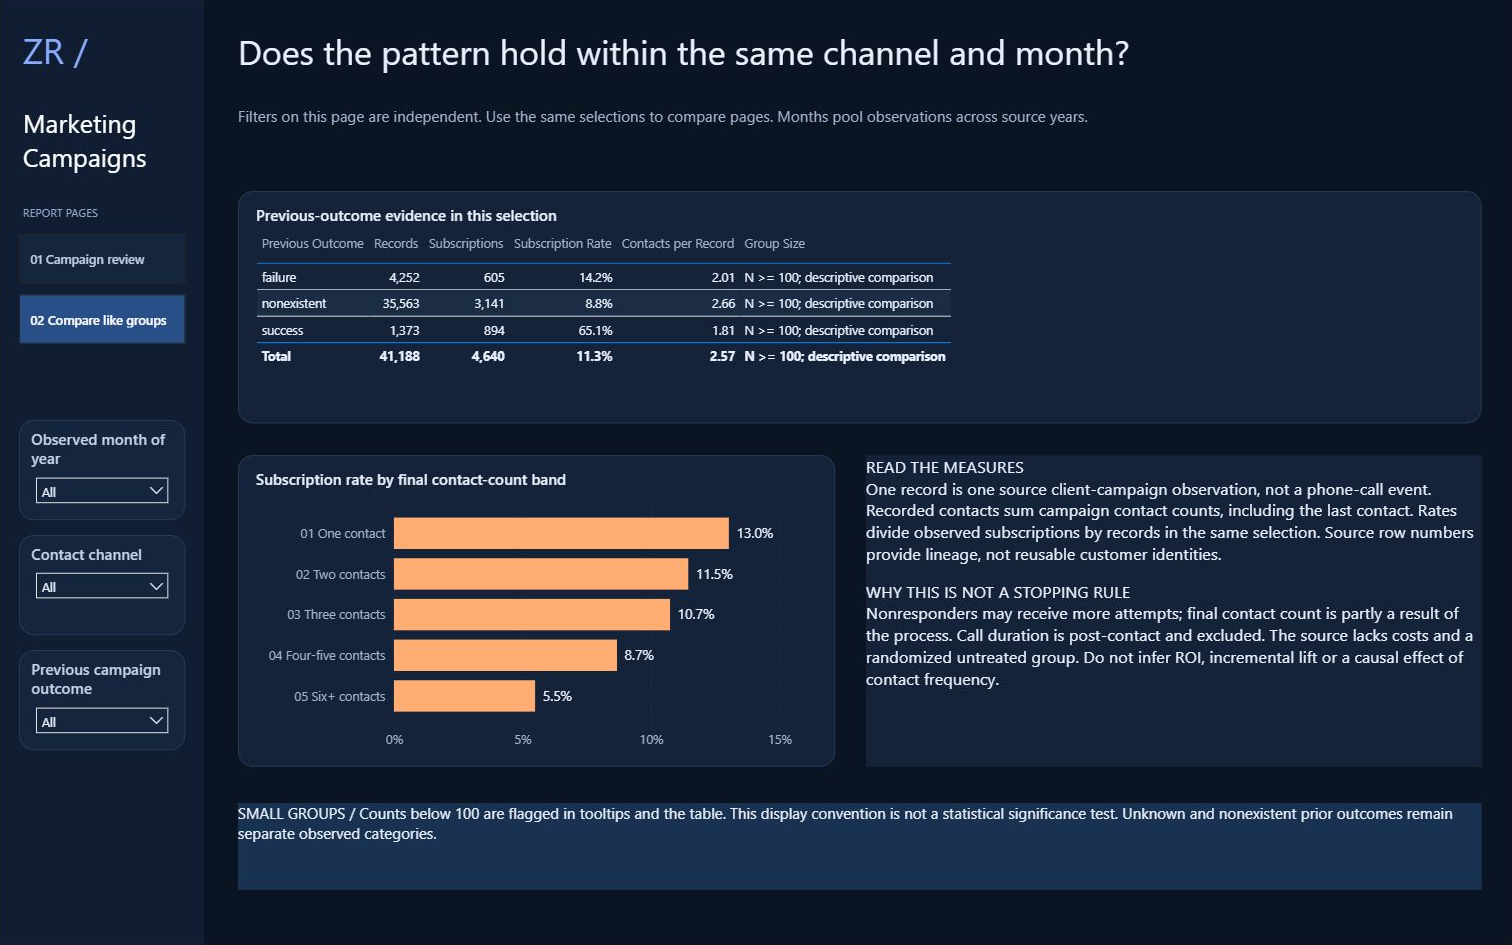

The page's visual inventory and layout, read from the dashboard file:
{"tool":"powerbi","page":{"name":"02  Compare like groups","canvas":[1440,1000],"ordinal":1},"visuals":[{"type":"textbox","box":[24,28,1392,65],"z":0},{"type":"textbox","box":[24,104,1392,38],"z":0},{"type":"slicer","title":"Observed month of year","fields":{"Values":["Months.Month"]},"box":[24,150,448,68],"z":0},{"type":"slicer","title":"Contact channel","fields":{"Values":["Channels.Channel"]},"box":[496,150,448,68],"z":0},{"type":"slicer","title":"Previous campaign outcome","fields":{"Values":["Outcomes.Previous Outcome"]},"box":[968,150,448,68],"z":0},{"type":"clusteredBarChart","title":"Subscription rate by final contact-count band","fields":{"Category":["ContactBands.Contact Band"],"Y":["Campaigns.Subscription Rate"]},"box":[24,246,680,330],"z":0},{"type":"tableEx","title":"Previous-outcome evidence in this selection","fields":{"Values":["Outcomes.Previous Outcome","Campaigns.Records","Campaigns.Subscriptions","Campaigns.Subscription Rate","Campaigns.Contacts per Record","Campaigns.Group Size"]},"box":[728,246,688,330],"z":0},{"type":"textbox","box":[24,604,1392,240],"z":0},{"type":"textbox","box":[24,860,1392,90],"z":0}]}

Visuals, with their boxes on the page's 1440x1000 design canvas (x1, y1, x2, y2). These are canvas units, not pixel positions in the 1512x945 screenshot, which may show the page scaled, cropped or inside an application window:
textbox: BBox(24, 28, 1416, 93)
textbox: BBox(24, 104, 1416, 142)
"Observed month of year" slicer: BBox(24, 150, 472, 218)
"Contact channel" slicer: BBox(496, 150, 944, 218)
"Previous campaign outcome" slicer: BBox(968, 150, 1416, 218)
"Subscription rate by final contact-count band" clusteredBarChart: BBox(24, 246, 704, 576)
"Previous-outcome evidence in this selection" tableEx: BBox(728, 246, 1416, 576)
textbox: BBox(24, 604, 1416, 844)
textbox: BBox(24, 860, 1416, 950)
